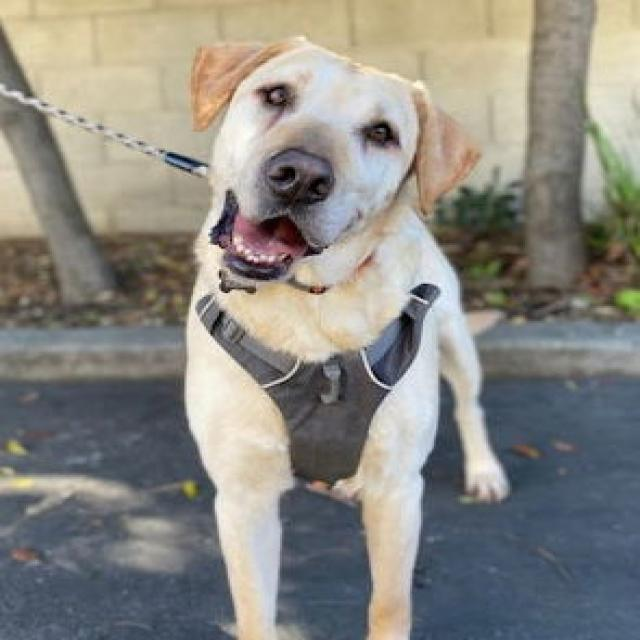labrador_retriever_dog: (169, 25, 489, 331)
